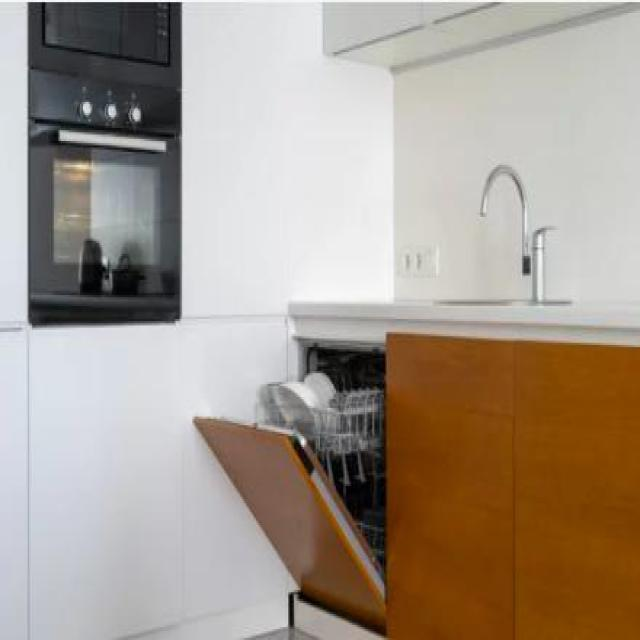dishwasher: (189, 324, 384, 634)
